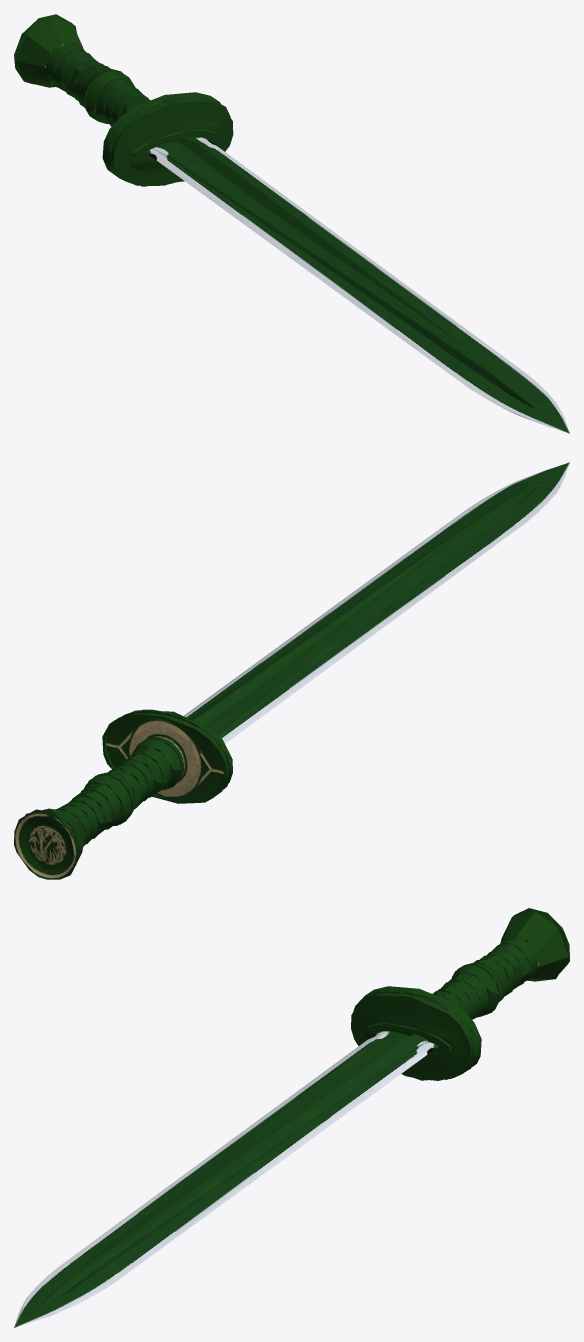
The model's file is ThanhTrucKiem.fbx.
3 views of the same model, one above another, from view 1: azimuth 30°, elevation 25°; view 2: azimuth 150°, elevation 25°; view 3: azimuth 330°, elevation 25° (orthographic).
Parts seen in each view (by area): view 1: ThanhTrucKiem; view 2: ThanhTrucKiem; view 3: ThanhTrucKiem.
Part boxes in pixels (x1=…): ThanhTrucKiem: x1=14, y1=14, x2=569, y2=433; ThanhTrucKiem: x1=14, y1=462, x2=569, y2=879; ThanhTrucKiem: x1=14, y1=908, x2=569, y2=1327.
Size of the model in its own units: 0.1386 by 0.0895 by 1.
